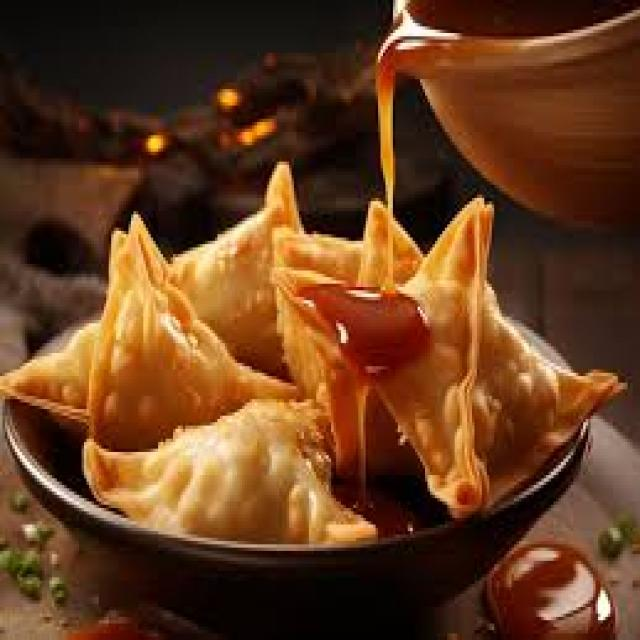SAMOSA: (271, 205, 492, 508), (84, 388, 384, 547), (93, 217, 290, 458), (175, 172, 300, 384), (0, 322, 97, 416)
